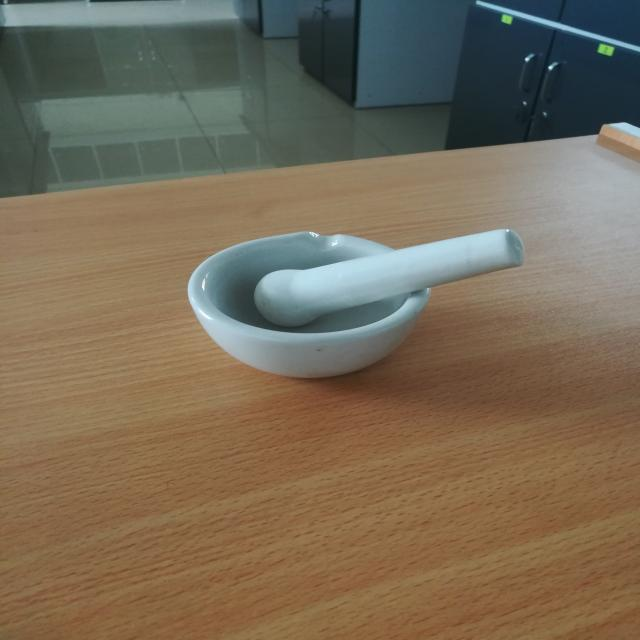Porcelain_Mortar Pestle: (136, 194, 555, 410)
